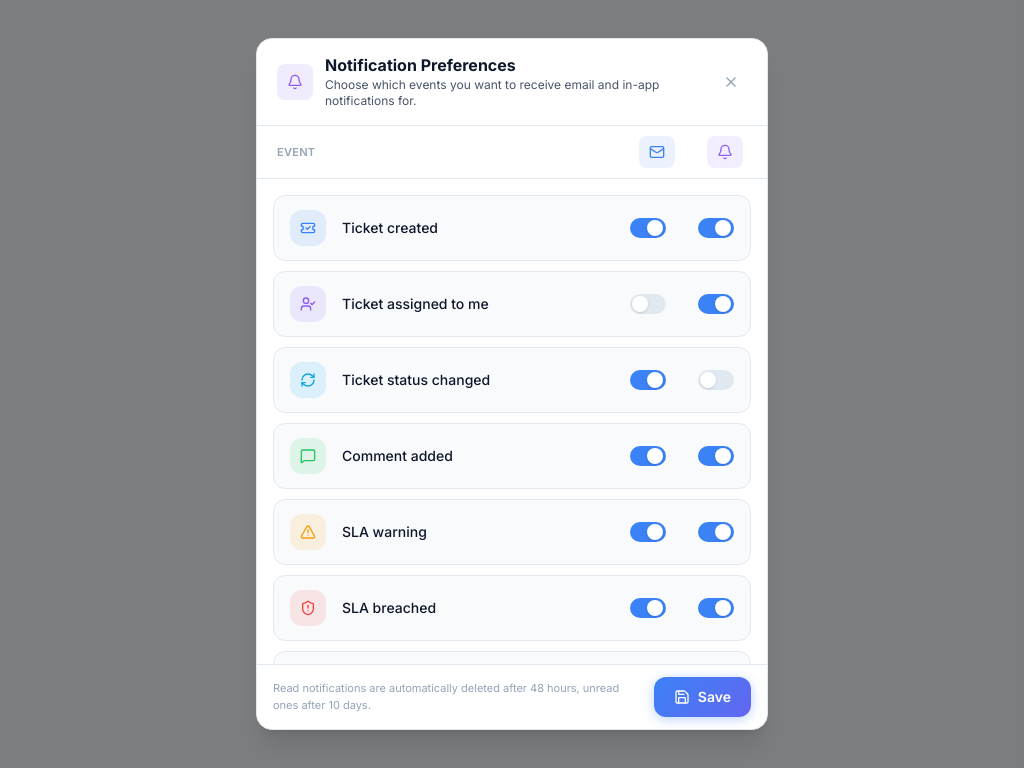
NotificationPreferencesModal › shows error feedback when save fails
This screenshot has width=1024, height=768.
Click the button "Save": coordinates (702, 697) [654,677,751,717]
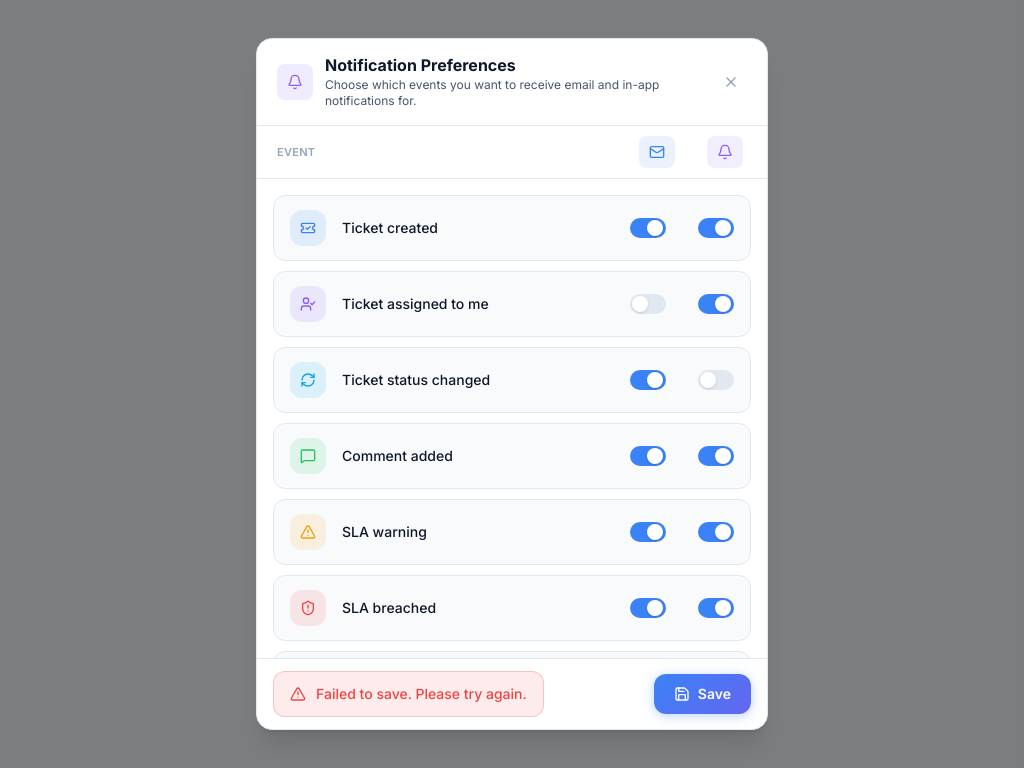
Check: the text "Failed to save. Please try again." is shown, box [273,671,544,717]
